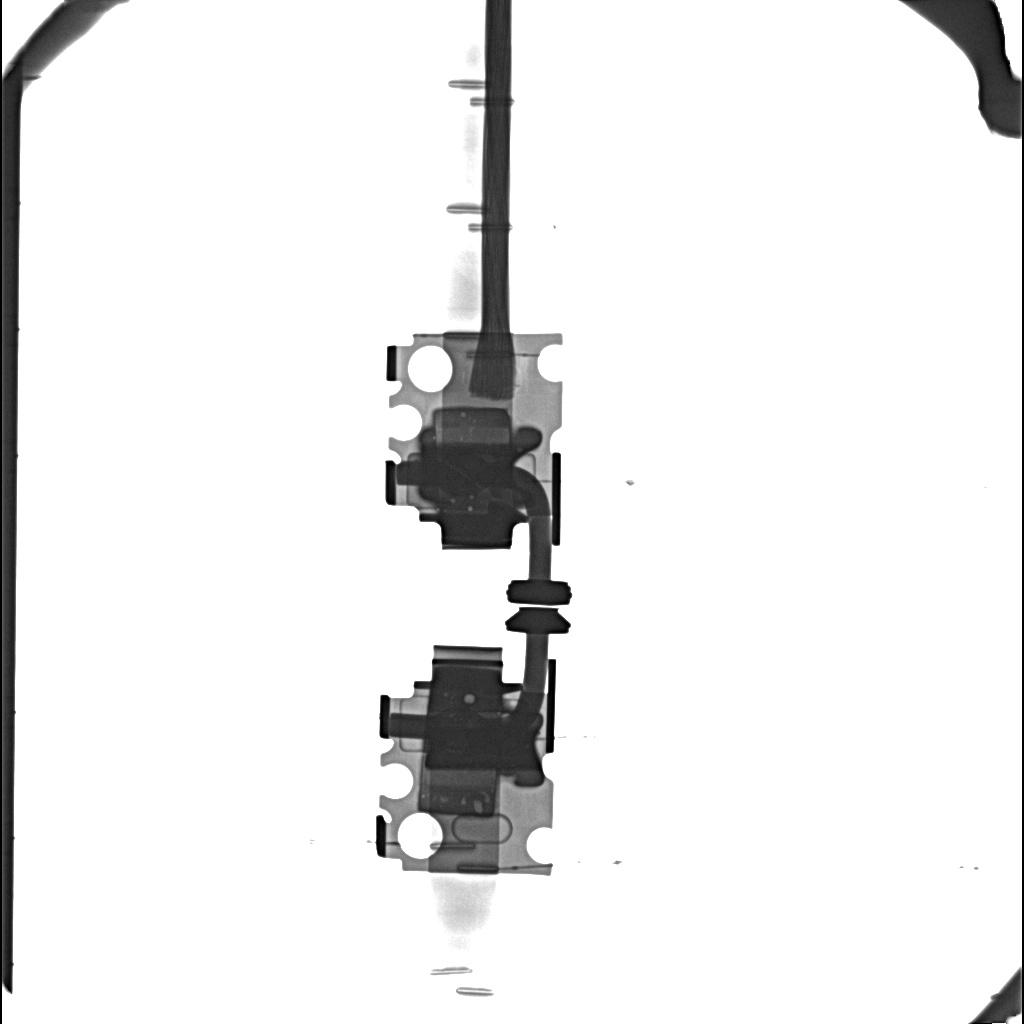defect: (426, 725, 538, 770), (423, 446, 524, 490), (417, 769, 499, 817), (432, 406, 513, 442), (464, 692, 476, 705)
